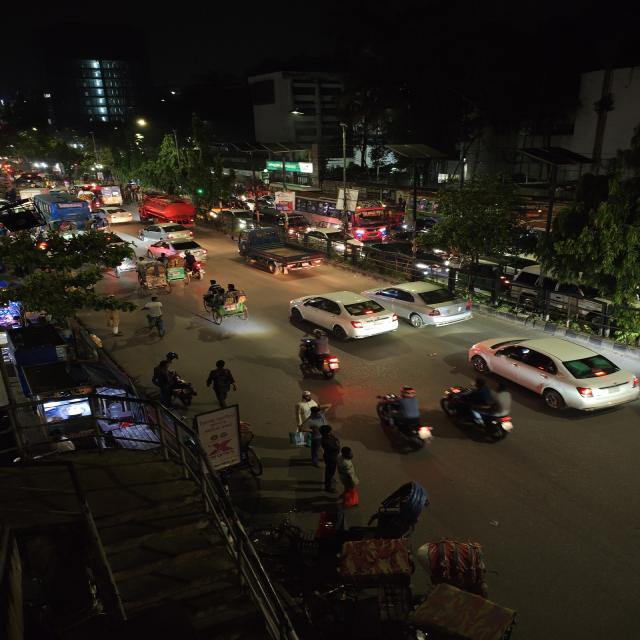bus: (312, 204, 390, 240), (33, 193, 92, 223)
car: (460, 332, 639, 416), (285, 289, 398, 343), (364, 280, 477, 329), (301, 228, 355, 254), (138, 221, 198, 243), (156, 239, 211, 259), (217, 208, 258, 230), (97, 206, 134, 224)
motorcycle: (439, 380, 520, 440), (372, 388, 434, 447), (291, 330, 344, 382), (152, 357, 202, 408), (182, 252, 206, 280)
pedestrian: (331, 439, 371, 508), (289, 391, 325, 456), (207, 358, 238, 406), (139, 296, 169, 337), (291, 390, 321, 426), (101, 304, 123, 336)
pickup_van: (234, 229, 325, 278)
rickshaw: (201, 282, 251, 324), (143, 263, 169, 293), (164, 256, 188, 286)
truck: (138, 191, 198, 222), (100, 184, 125, 205)
